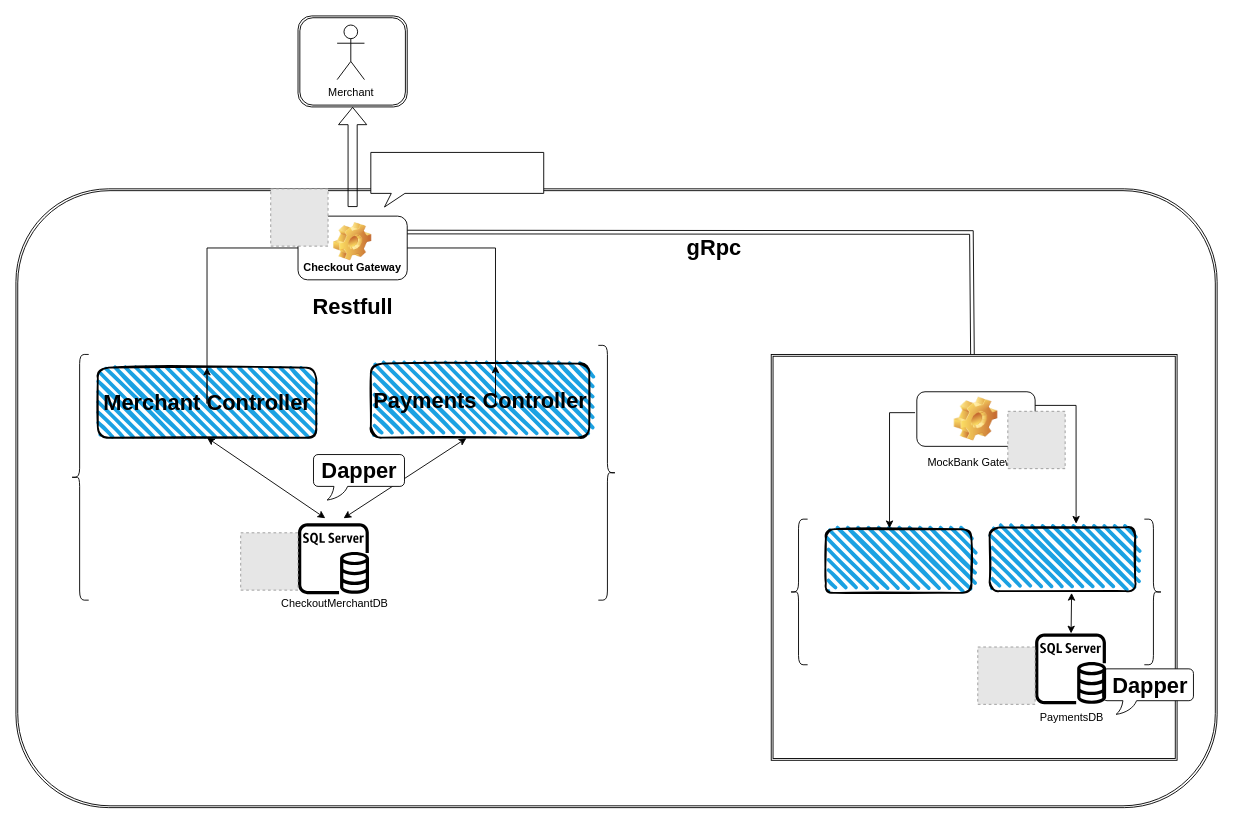
Some shapes in this 1233 by 824 pixel diagram are drawn without their labels. Grey dashed boxes stand in for pictures. Each missing label, with the centre of its shape:
AuthService: the point at 898,560
Bank API: the point at 1062,559
Open API Spec: the point at 457,179
